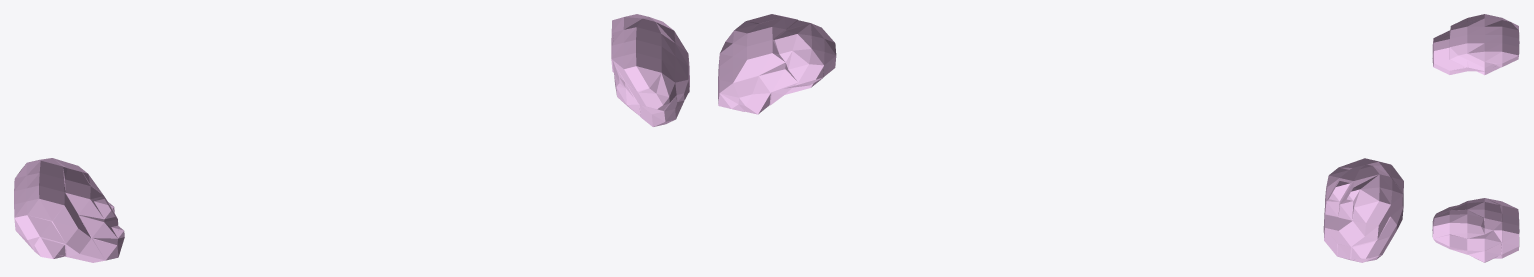
Rendered from VFB_00102175.glb.
3 renders of one model, left to right at view 1: azimuth 30°, elevation 25°; view 2: azimuth 150°, elevation 25°; view 3: azimuth 270°, elevation 25°, orthographic. The views are drawn at different scales.
Parts seen in each view (by area): view 1: VFB_00102175; view 2: VFB_00102175; view 3: VFB_00102175.
Boxes of the visible parts, x1,y1,x2,y2 form: VFB_00102175: [14, 14, 689, 262]; VFB_00102175: [718, 14, 1403, 262]; VFB_00102175: [1432, 14, 1519, 262].
Size of the model in its own units: 0.108 by 0.0144 by 0.0196.
